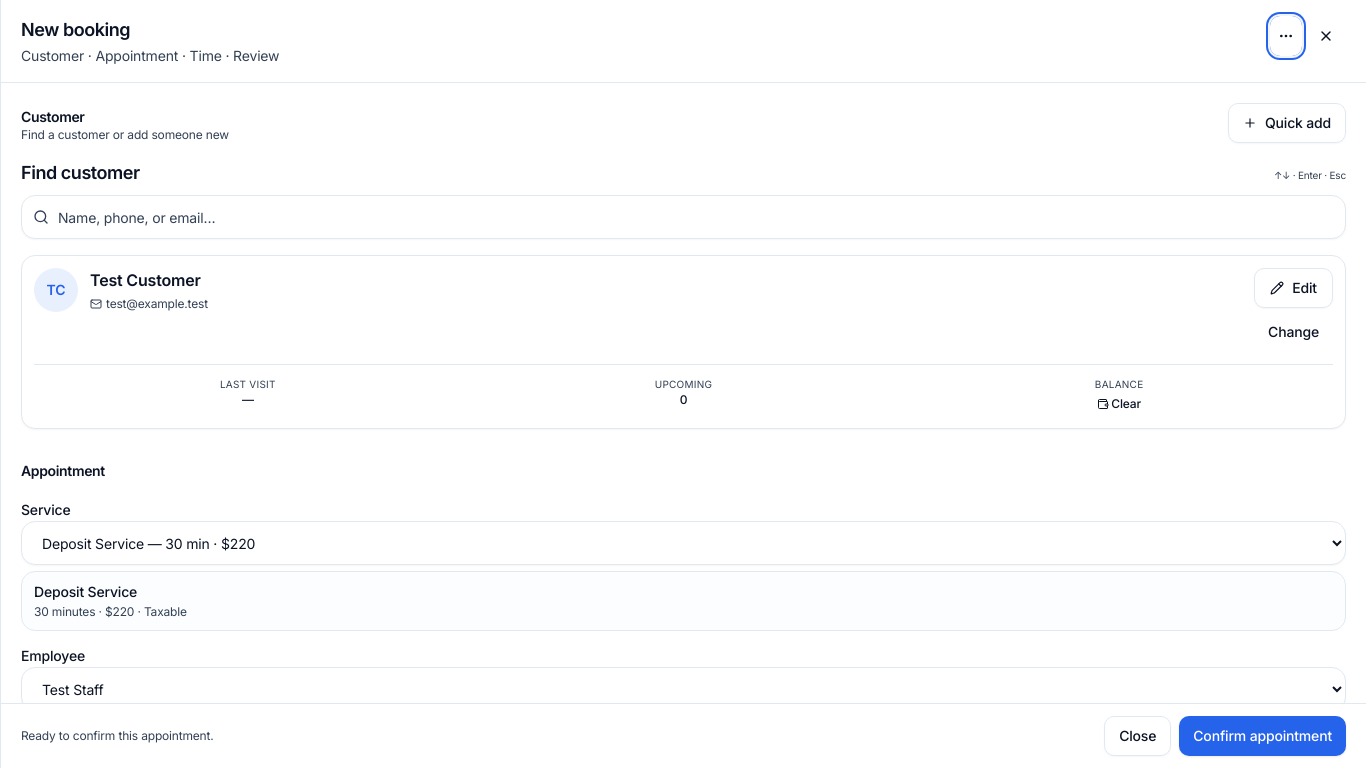
Test case: Booking Sheet payment submission integrity › does not offer recovery navigation for {"transactionId":"tx-present","canRetry":true}
Click the button "Confirm appointment" at point(1263, 736), box [1179,716,1346,756]
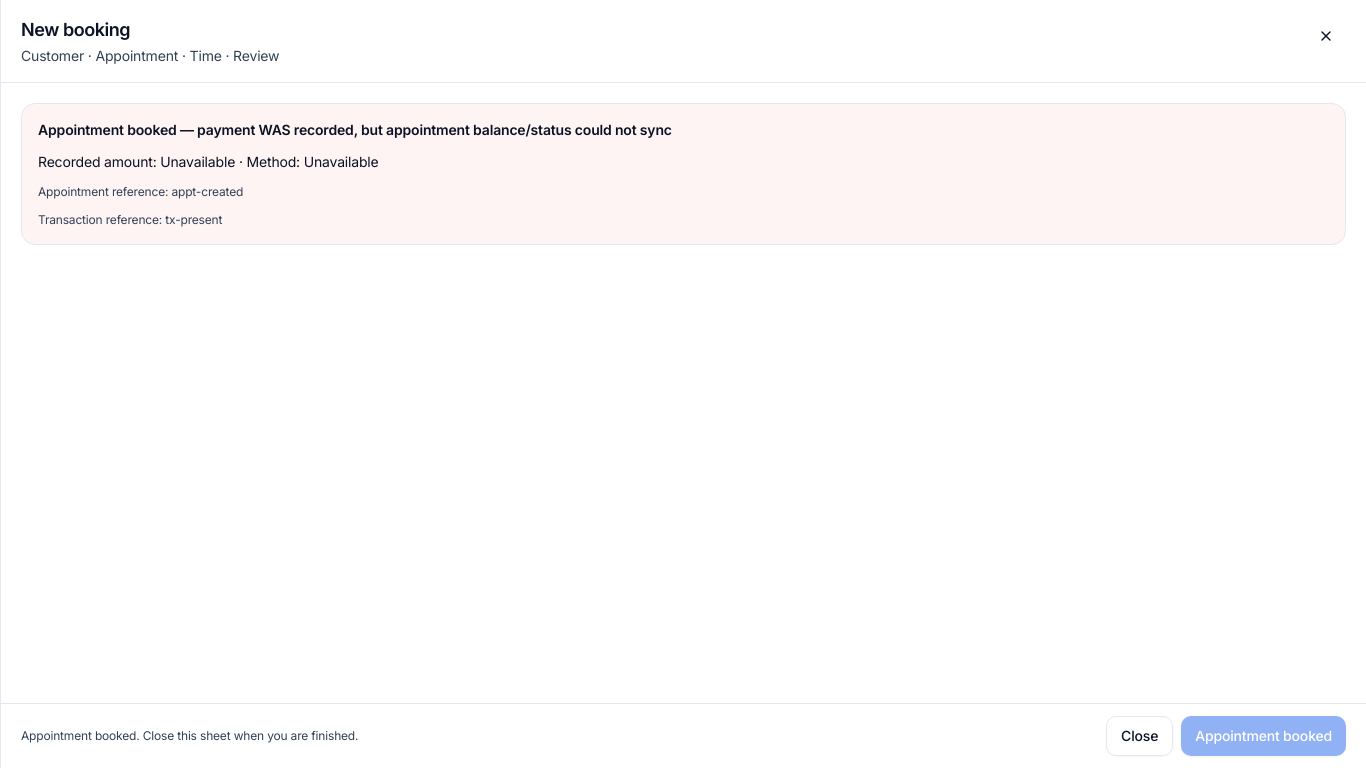
Expected: the message is shown, [21,103,1346,245]
